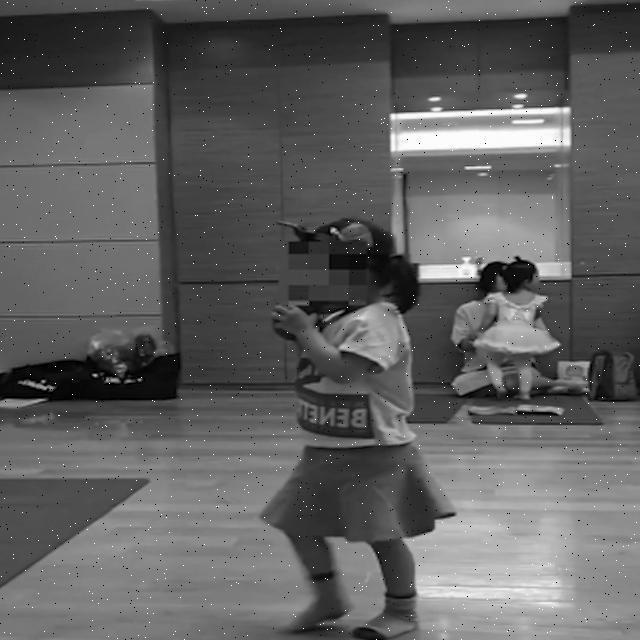child: (257, 210, 460, 640), (475, 255, 550, 398)
